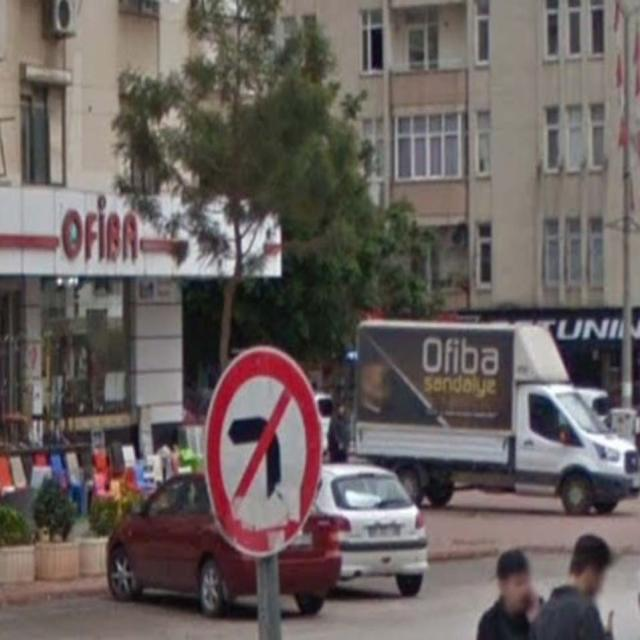soladonulmez: (205, 347, 323, 558)
